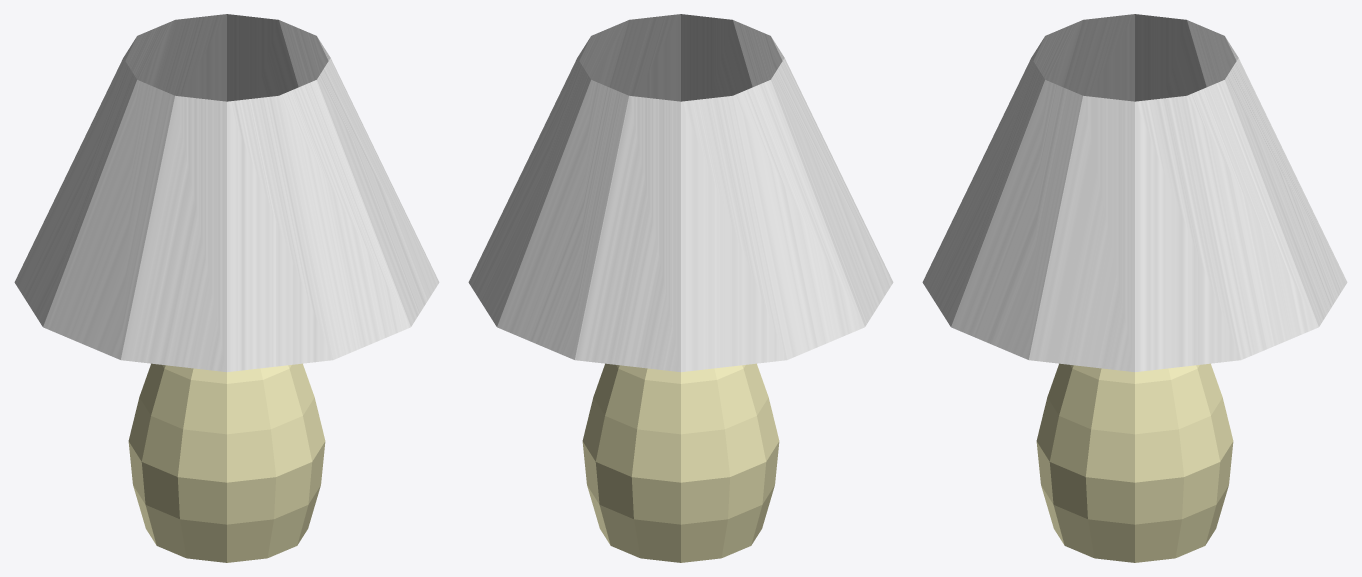
The model's file is Lampara.fbx.
3 views of the same model, side by side, from view 1: azimuth 30°, elevation 25°; view 2: azimuth 150°, elevation 25°; view 3: azimuth 270°, elevation 25° (orthographic).
Visible parts, largest first — view 1: Cylinder.001; view 2: Cylinder.001; view 3: Cylinder.001.
Boxes of the visible parts, box(x1,y1,x2,y2) form: Cylinder.001: box(14, 14, 439, 562); Cylinder.001: box(468, 14, 893, 562); Cylinder.001: box(922, 14, 1347, 562).
Bounding box in the file's own units: 337 × 411 × 337.
